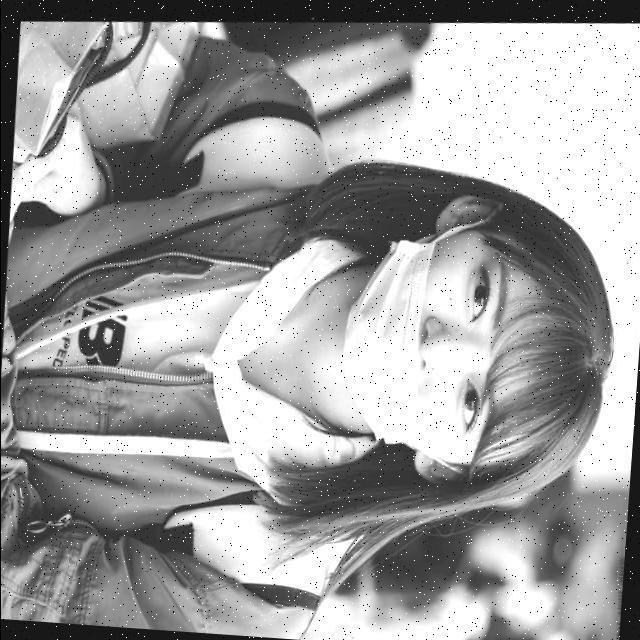no_gloves: (484, 170, 594, 488)
